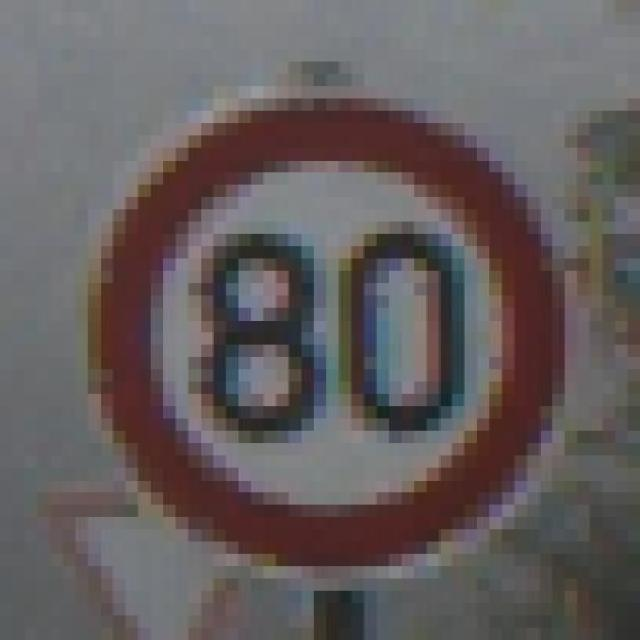forb_speed_over_80: (93, 102, 567, 576)
